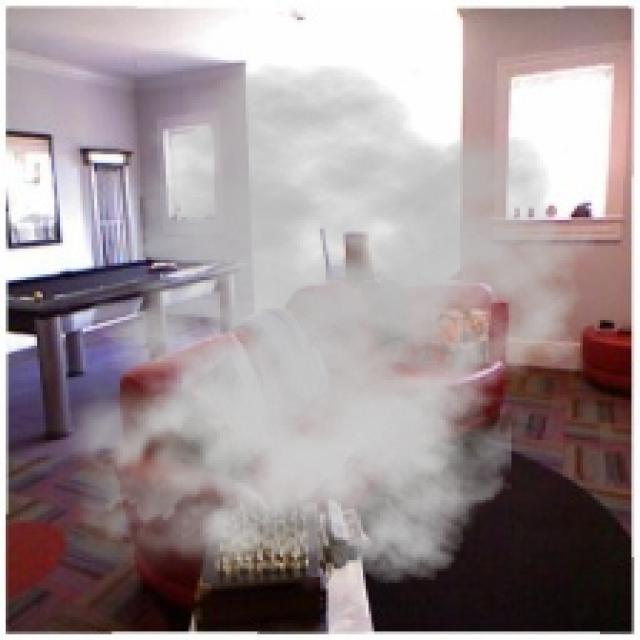smoke: (37, 63, 597, 600)
